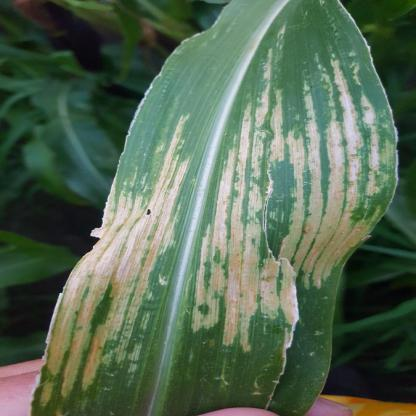corn leaf blight: (64, 9, 404, 409)
